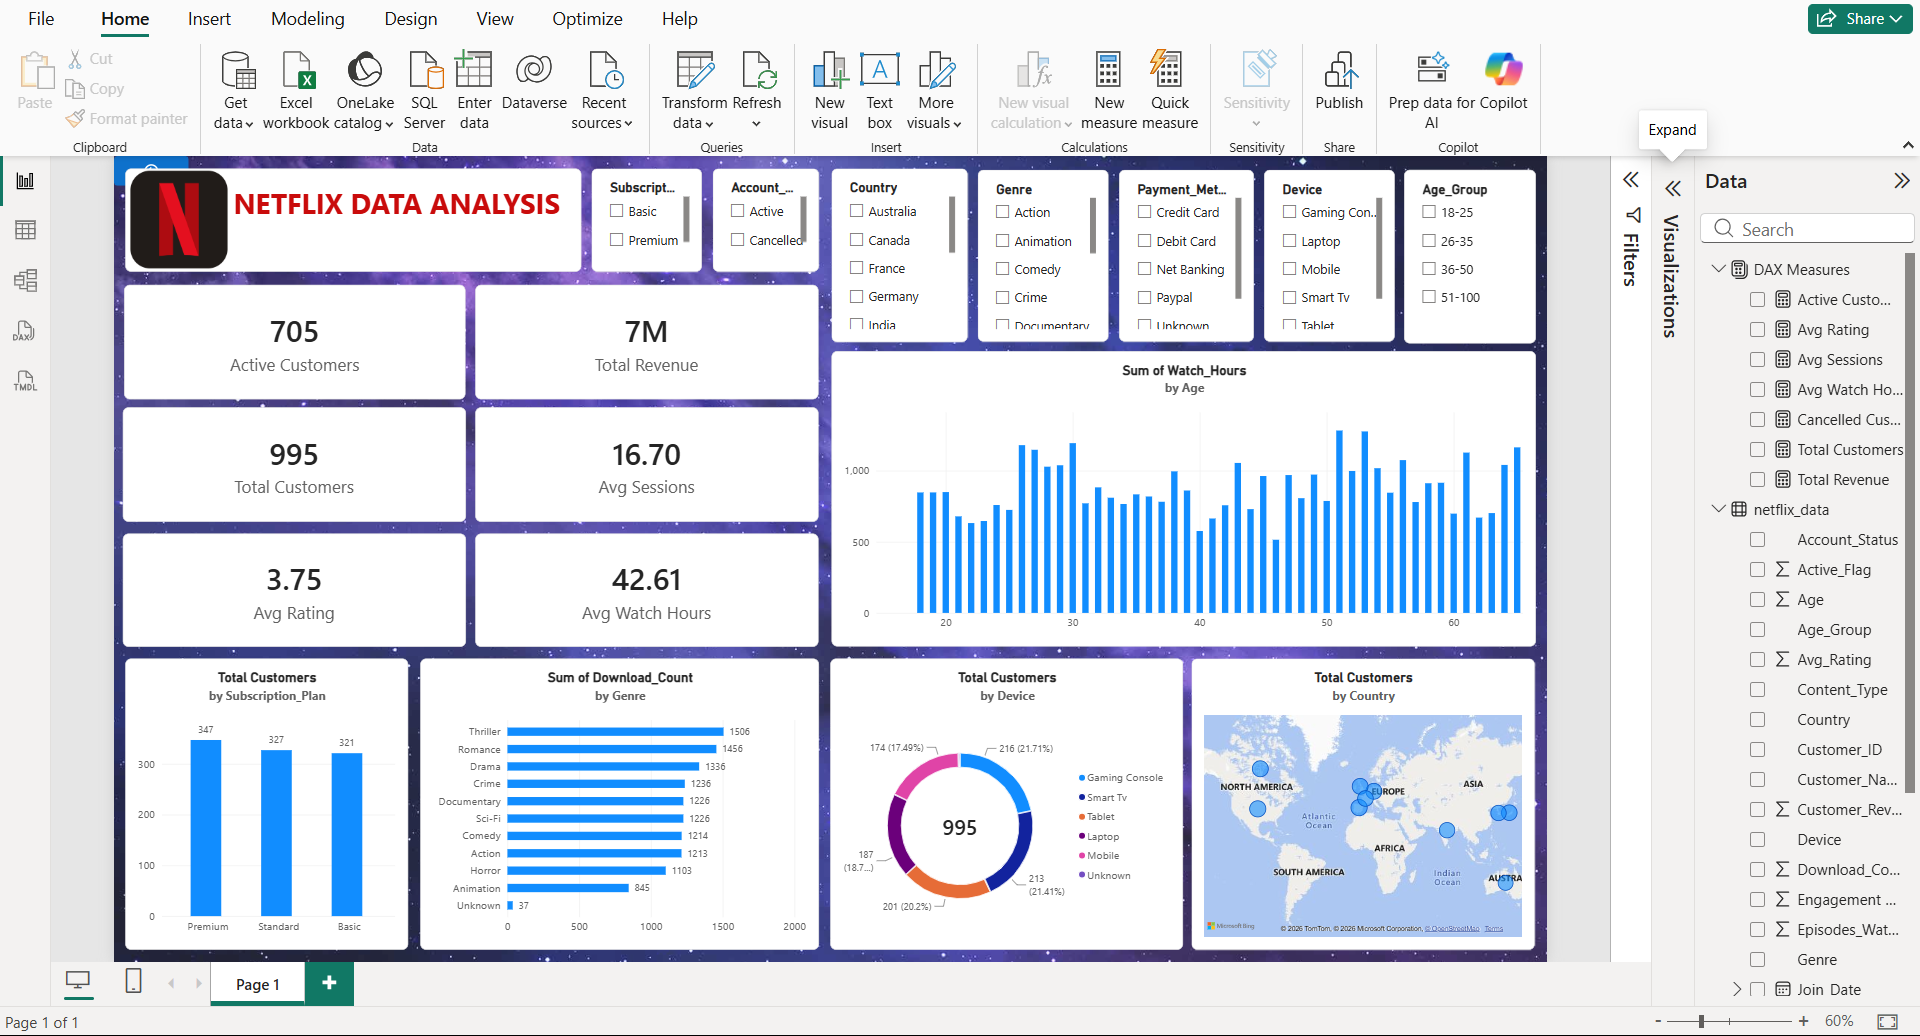

The dashboard page shown, as its layout file describes it:
{"tool":"powerbi","page":{"name":"Page 1","canvas":[1920,1080],"ordinal":0},"visuals":[{"type":"card","fields":{"Values":["DAX Measures.Total Revenue"]},"box":[484.6,173.1,459.6,153.8],"z":0},{"type":"card","fields":{"Values":["DAX Measures.Total Customers"]},"box":[11.5,336.5,459.6,153.8],"z":1000},{"type":"card","fields":{"Values":["DAX Measures.Active Customers"]},"box":[13.5,173.1,457.7,153.8],"z":2000},{"type":"actionButton","box":[0,0,100,40],"z":3000},{"type":"card","fields":{"Values":["DAX Measures.Avg Rating"]},"box":[11.5,505.8,459.6,151.9],"z":4000},{"type":"card","fields":{"Values":["DAX Measures.Avg Watch Hours"]},"box":[484.6,505.8,459.6,151.9],"z":5000},{"type":"clusteredColumnChart","fields":{"Category":["netflix_data.Age"],"Y":["Sum(netflix_data.Watch_Hours)"]},"box":[961.5,261.5,944.2,396.2],"z":6000},{"type":"slicer","fields":{"Values":["netflix_data.Country"]},"box":[961.5,17.3,182.7,232.7],"z":7000},{"type":"slicer","fields":{"Values":["netflix_data.Device"]},"box":[626.9,801.9,242.1,233.1],"z":8000},{"type":"slicer","fields":{"Values":["netflix_data.Subscription_Plan"]},"box":[640.4,17.3,148.1,138.5],"z":9000},{"type":"slicer","fields":{"Values":["netflix_data.Genre"]},"box":[1157.7,19.2,175,230.8],"z":10000},{"type":"slicer","fields":{"Values":["netflix_data.Account_Status"]},"box":[801.9,17.3,142.3,138.5],"z":11000},{"type":"columnChart","fields":{"Category":["netflix_data.Subscription_Plan"],"Y":["DAX Measures.Total Customers"]},"box":[15.4,673.1,378.8,390.4],"z":12000},{"type":"map","fields":{"Category":["netflix_data.Country"],"Size":["DAX Measures.Total Customers"]},"box":[1444.2,673.1,459.6,390.4],"z":13000},{"type":"barChart","fields":{"Category":["netflix_data.Genre"],"Y":["Sum(netflix_data.Download_Count)"]},"box":[409.6,673.1,534.6,390.4],"z":14000},{"type":"donutChart","fields":{"Category":["netflix_data.Device"],"Y":["DAX Measures.Total Customers"]},"box":[959.6,673.1,473.1,390.4],"z":15000},{"type":"slicer","fields":{"Values":["netflix_data.Age_Group"]},"box":[1728.8,19.2,176.9,232.7],"z":16000},{"type":"textbox","box":[15.4,17.3,611.5,138.5],"z":17000},{"type":"card","fields":{"Values":["DAX Measures.Avg Sessions"]},"box":[484.6,336.5,459.6,153.8],"z":18000},{"type":"slicer","fields":{"Values":["netflix_data.Payment_Method"]},"box":[1346.2,19.2,180.8,230.8],"z":19000},{"type":"image","box":[15.4,17.3,144.2,136.5],"z":20000},{"type":"slicer","fields":{"Values":["netflix_data.Device"]},"box":[1540.4,19.2,175,230.8],"z":21000}]}

Visuals, with their boxes on the page's 1920x1080 design canvas (x1, y1, x2, y2). These are canvas units, not pixel positions in the 1920x1036 screenshot, which may show the page scaled, cropped or inside an application window:
card - DAX Measures.Total Revenue: (485, 173, 944, 327)
card - DAX Measures.Total Customers: (12, 336, 471, 490)
card - DAX Measures.Active Customers: (14, 173, 471, 327)
actionButton: (0, 0, 100, 40)
card - DAX Measures.Avg Rating: (12, 506, 471, 658)
card - DAX Measures.Avg Watch Hours: (485, 506, 944, 658)
clusteredColumnChart - netflix_data.Age x Sum(netflix_data.Watch_Hours): (962, 262, 1906, 658)
slicer - netflix_data.Country: (962, 17, 1144, 250)
slicer - netflix_data.Device: (627, 802, 869, 1035)
slicer - netflix_data.Subscription_Plan: (640, 17, 788, 156)
slicer - netflix_data.Genre: (1158, 19, 1333, 250)
slicer - netflix_data.Account_Status: (802, 17, 944, 156)
columnChart - netflix_data.Subscription_Plan x DAX Measures.Total Customers: (15, 673, 394, 1064)
map - netflix_data.Country x DAX Measures.Total Customers: (1444, 673, 1904, 1064)
barChart - netflix_data.Genre x Sum(netflix_data.Download_Count): (410, 673, 944, 1064)
donutChart - netflix_data.Device x DAX Measures.Total Customers: (960, 673, 1433, 1064)
slicer - netflix_data.Age_Group: (1729, 19, 1906, 252)
textbox: (15, 17, 627, 156)
card - DAX Measures.Avg Sessions: (485, 336, 944, 490)
slicer - netflix_data.Payment_Method: (1346, 19, 1527, 250)
image: (15, 17, 160, 154)
slicer - netflix_data.Device: (1540, 19, 1715, 250)
